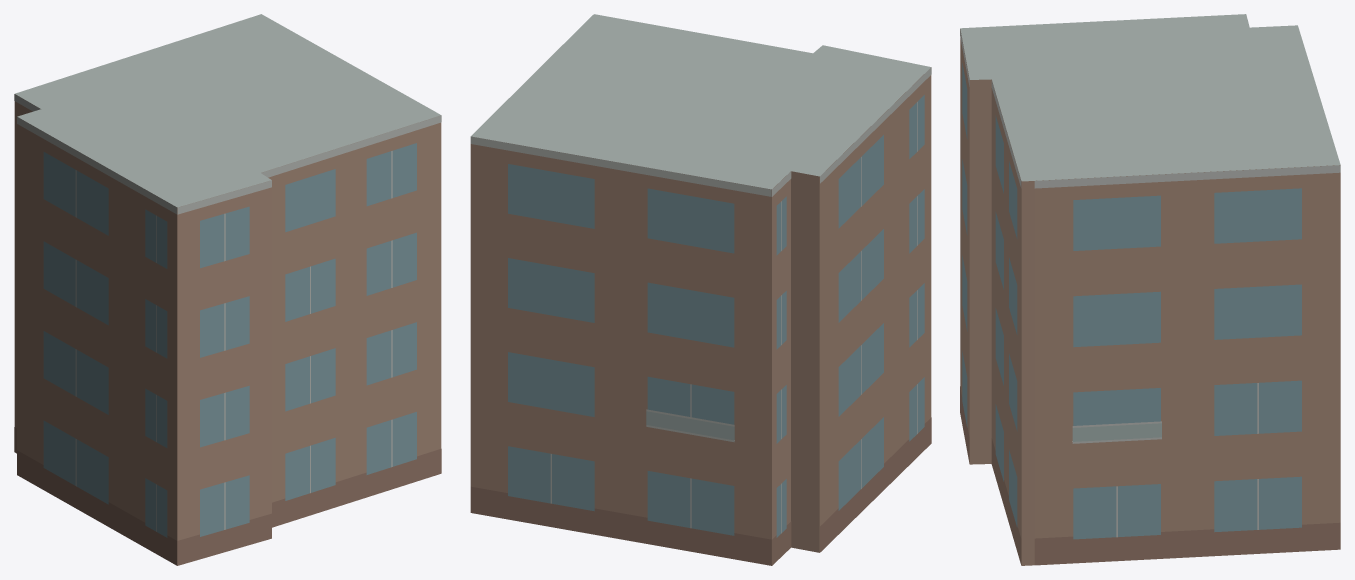
The model's file is survey-upis-32673161.glb.
The picture shows the model from 3 angles, left to right: view 1: azimuth 30°, elevation 25°; view 2: azimuth 150°, elevation 25°; view 3: azimuth 270°, elevation 25°; orthographic projection. The views are drawn at different scales.
Parts seen in each view (by area): view 1: survey-upis-32673161.tmp; view 2: survey-upis-32673161.tmp; view 3: survey-upis-32673161.tmp.
Boxes of the visible parts, bbox=[...] form: survey-upis-32673161.tmp: bbox=[14, 14, 441, 565]; survey-upis-32673161.tmp: bbox=[470, 14, 931, 565]; survey-upis-32673161.tmp: bbox=[960, 14, 1340, 565].
Bounding box in the file's own units: 11.4 × 12.2 × 10.95.
